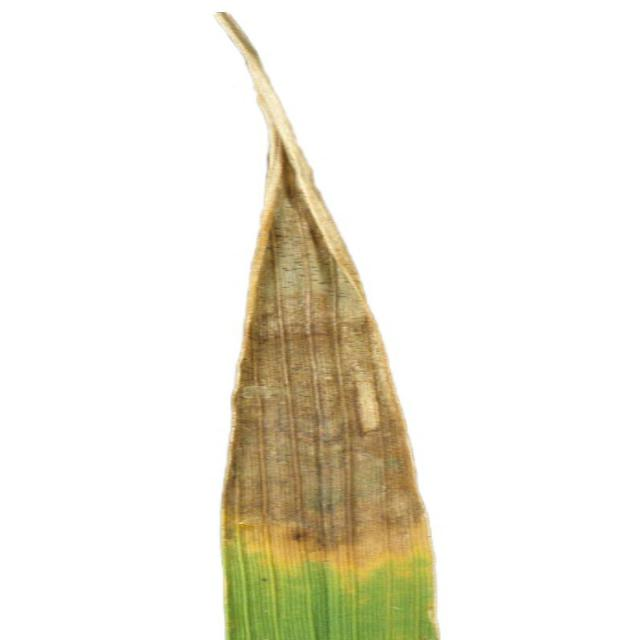Leaf scald: (190, 3, 482, 640)
